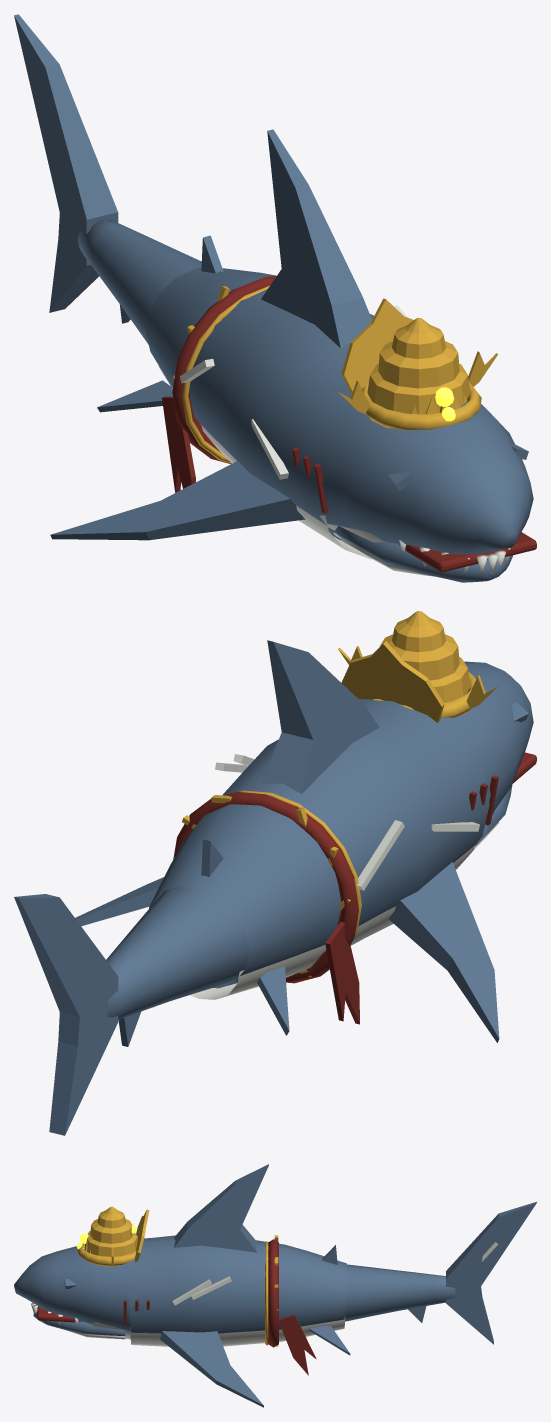
The model's file is sura.glb.
3 renders of one model, top to bottom at view 1: azimuth 30°, elevation 25°; view 2: azimuth 150°, elevation 25°; view 3: azimuth 270°, elevation 25°, orthographic. The views are drawn at different scales.
Parts seen in each view (by area): view 1: body_mesh, head_mesh, tail_tip_mesh, arm_r_mesh, tail_mesh, jaw_mesh; view 2: body_mesh, head_mesh, tail_mesh, tail_tip_mesh, arm_r_mesh, arm_l_mesh; view 3: body_mesh, head_mesh, tail_mesh, tail_tip_mesh, arm_l_mesh, jaw_mesh.
Boxes of the visible parts, box(x1,y1,x2,y2) form: body_mesh: box(97, 129, 407, 559); head_mesh: box(292, 298, 536, 574); tail_tip_mesh: box(14, 14, 118, 312); arm_r_mesh: box(50, 461, 305, 540); tail_mesh: box(77, 219, 201, 344); jaw_mesh: box(334, 526, 513, 582); body_mesh: box(149, 640, 489, 1035); head_mesh: box(338, 611, 536, 825); tail_mesh: box(106, 886, 249, 1046); tail_tip_mesh: box(14, 894, 118, 1135); arm_r_mesh: box(388, 862, 499, 1042); arm_l_mesh: box(75, 877, 163, 926); body_mesh: box(129, 1164, 350, 1375); head_mesh: box(14, 1206, 150, 1339); tail_mesh: box(345, 1264, 455, 1322); tail_tip_mesh: box(446, 1201, 536, 1344); arm_l_mesh: box(160, 1331, 263, 1407); jaw_mesh: box(33, 1312, 125, 1339).
Bounding box in the file's own units: 2.86 × 2.24 × 5.46.
